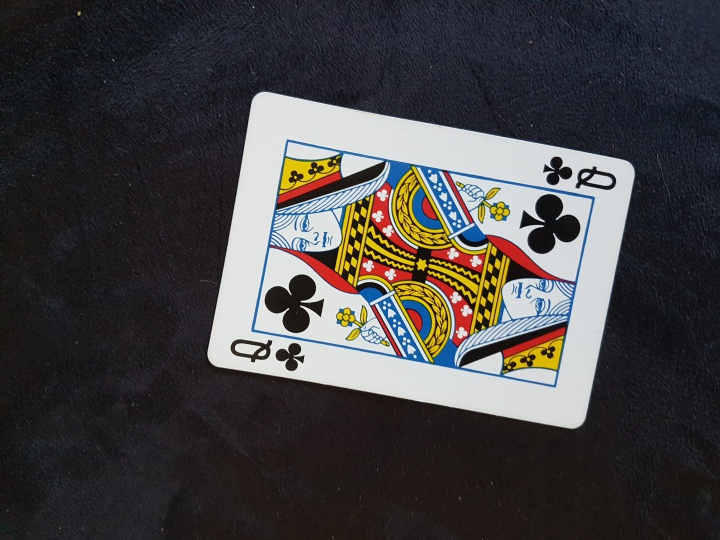queen: (201, 93, 645, 423)
